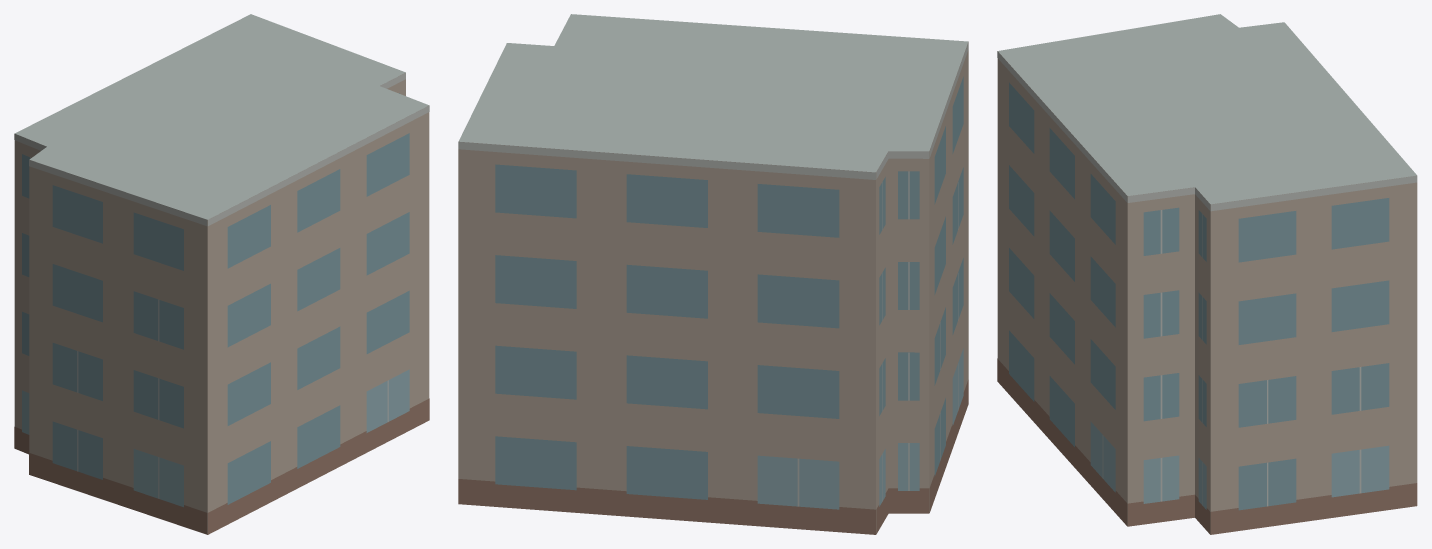
File: survey-upis-32853105.glb
The picture shows the model from 3 angles, left to right: view 1: azimuth 30°, elevation 25°; view 2: azimuth 150°, elevation 25°; view 3: azimuth 270°, elevation 25°; orthographic projection. The views are drawn at different scales.
Visible parts, largest first — view 1: survey-upis-32853105.tmp; view 2: survey-upis-32853105.tmp; view 3: survey-upis-32853105.tmp.
Boxes of the visible parts, bbox=[...] form: survey-upis-32853105.tmp: bbox=[14, 14, 429, 534]; survey-upis-32853105.tmp: bbox=[458, 14, 968, 534]; survey-upis-32853105.tmp: bbox=[997, 14, 1417, 534].
Bounding box in the file's own units: 14.34 × 11.6 × 13.37.
